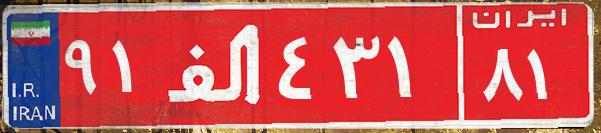1: (385, 28, 445, 110), (110, 28, 158, 105), (525, 38, 570, 115)
3: (330, 28, 385, 110)
4: (273, 28, 330, 110)
8: (475, 38, 525, 113)
9: (57, 26, 110, 107)
الف: (158, 15, 273, 115)
